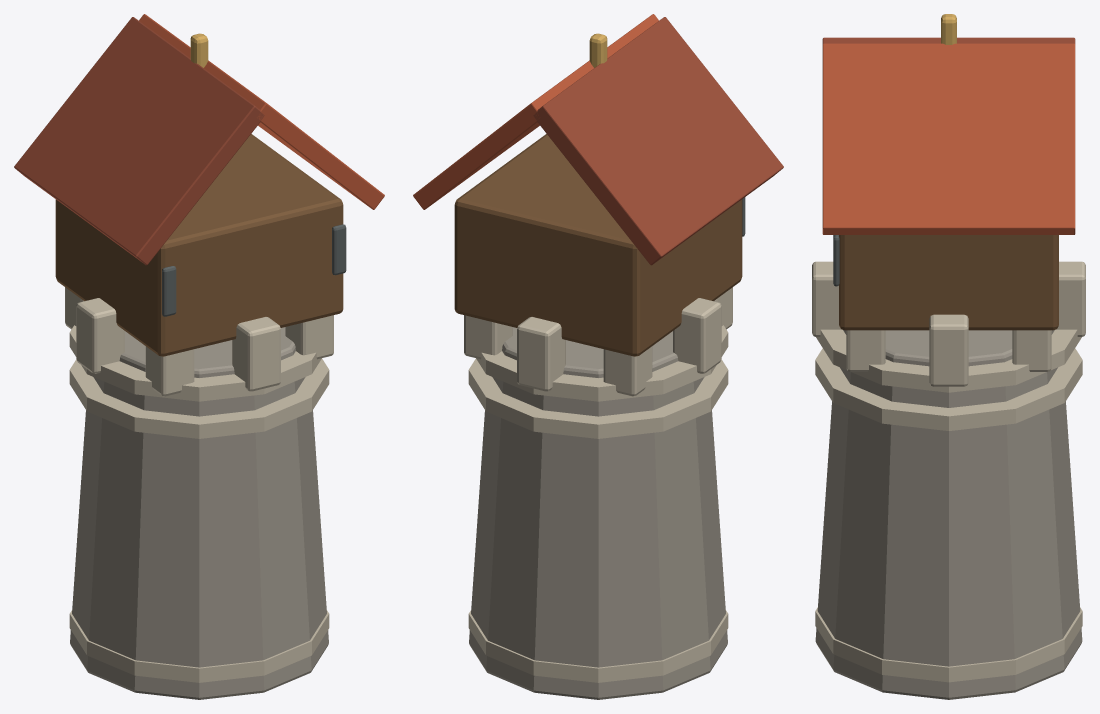
File: watchtower.glb
3 views of the same model, side by side, from view 1: azimuth 30°, elevation 25°; view 2: azimuth 150°, elevation 25°; view 3: azimuth 270°, elevation 25° (orthographic). The views are drawn at different scales.
Parts seen in each view (by area): view 1: Watchtower_Geometry; view 2: Watchtower_Geometry; view 3: Watchtower_Geometry.
Boxes of the visible parts, x1,y1,x2,y2 form: Watchtower_Geometry: [14, 14, 384, 699]; Watchtower_Geometry: [413, 14, 783, 699]; Watchtower_Geometry: [812, 14, 1085, 699].
Bounding box in the file's own units: 1.82 × 4.26 × 1.68.
